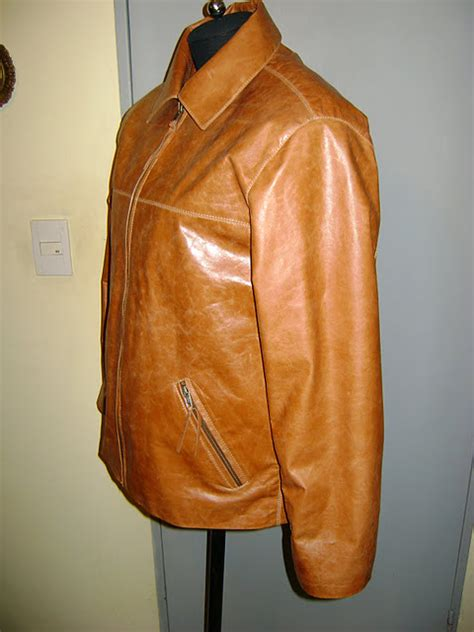cuero: (96, 2, 387, 600)
